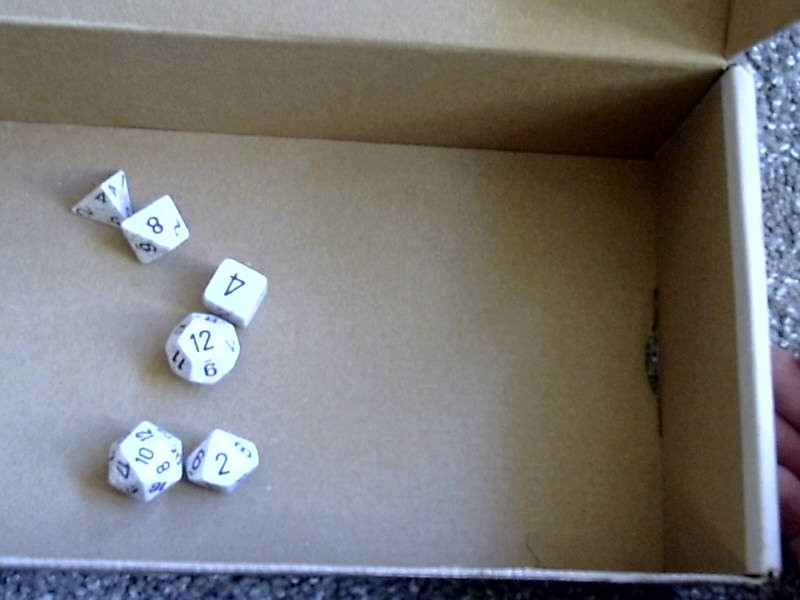d10 2: (185, 415, 260, 504)
d12 12: (150, 311, 239, 386)
d20 10: (95, 415, 183, 507)
d4 4: (64, 162, 131, 229)
d6 4: (200, 252, 275, 327)
d8 8: (122, 191, 202, 266)
